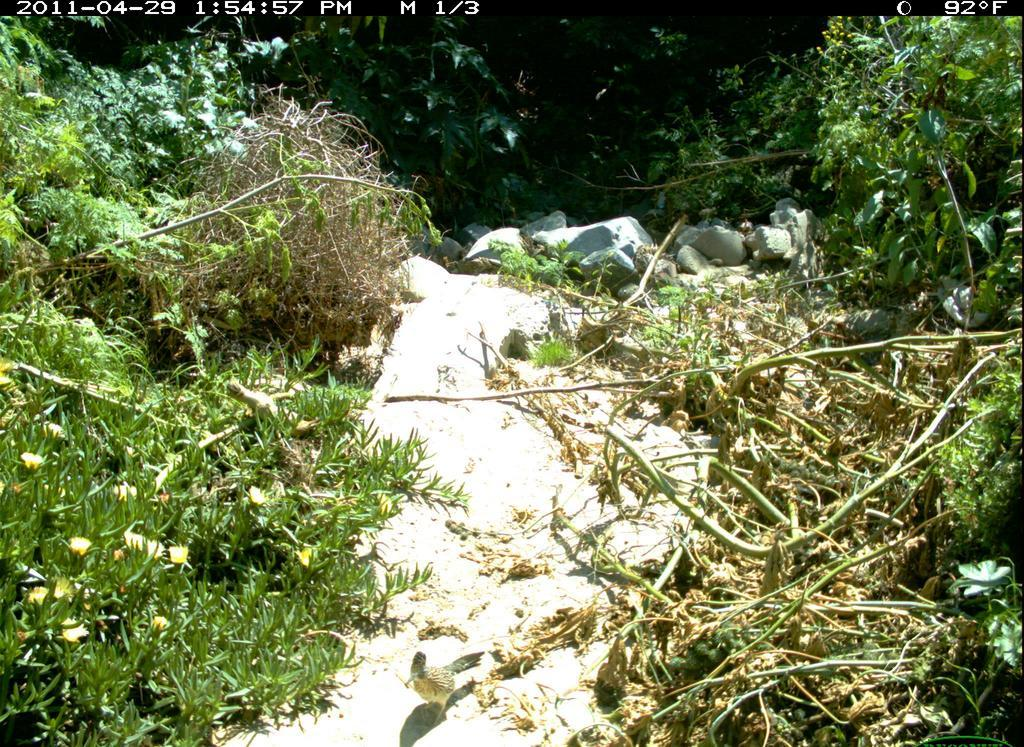bird: (400, 646, 492, 728)
